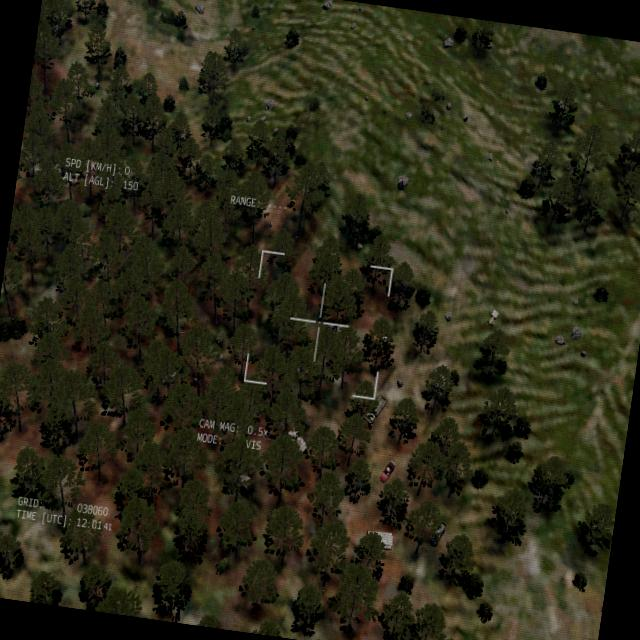apc: (282, 426, 310, 456)
car: (427, 514, 451, 550), (377, 455, 397, 487)
tank: (356, 526, 394, 551)
truck: (363, 392, 388, 428)
